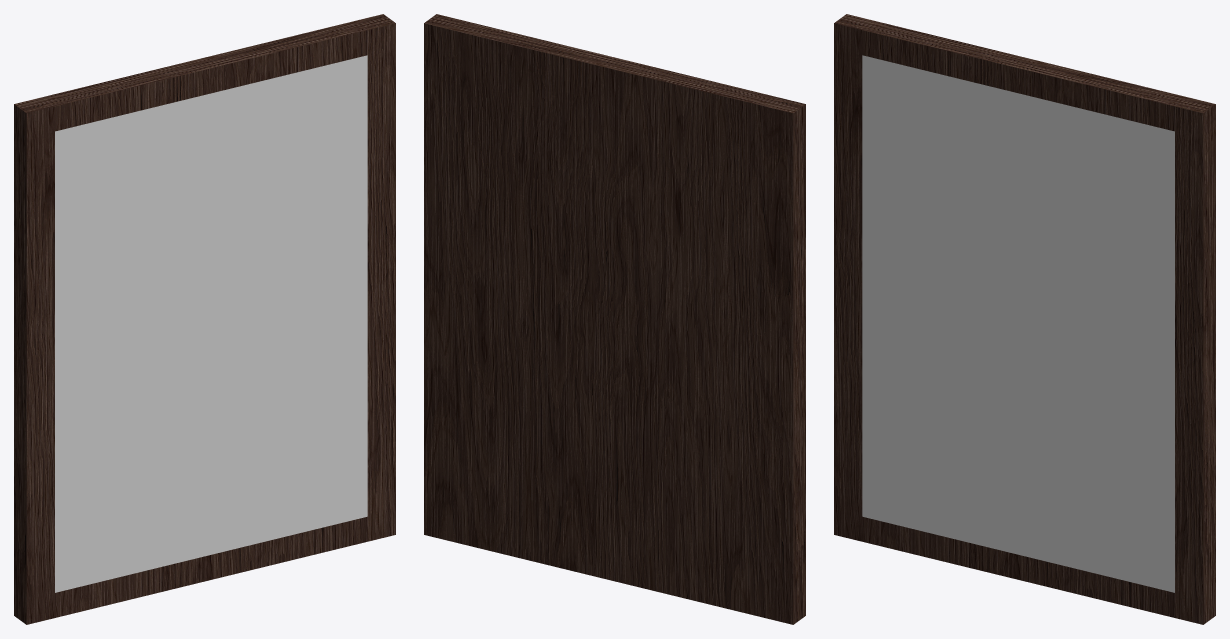
File: Gakubuchi.fbx
3 renders of one model, left to right at view 1: azimuth 30°, elevation 25°; view 2: azimuth 150°, elevation 25°; view 3: azimuth 330°, elevation 25°, orthographic.
Visible parts, largest first — view 1: Gakubuchi; view 2: Gakubuchi; view 3: Gakubuchi.
Part boxes in pixels (x1,y1,x2,y2): Gakubuchi: (14,14,395,624); Gakubuchi: (424,14,805,624); Gakubuchi: (834,14,1215,624).
Bounding box in the file's own units: 419 × 555 × 24.77.
3 materials, 2 textured.
